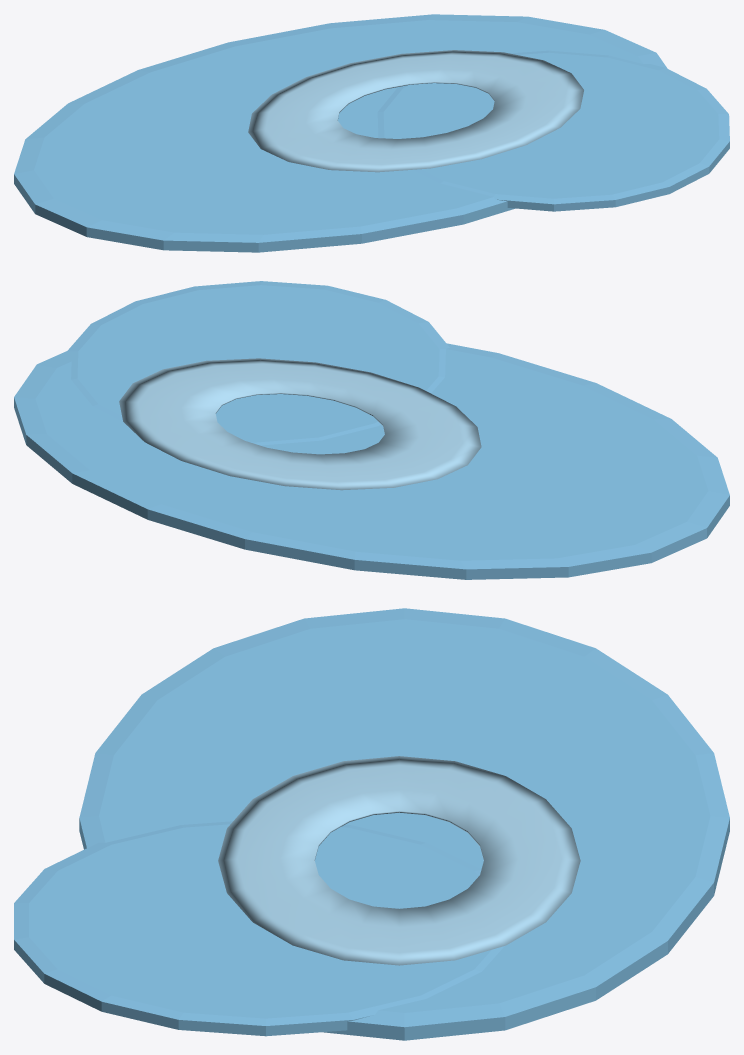
Rendered from rain_puddle.glb.
The picture shows the model from 3 angles, top to bottom: view 1: azimuth 30°, elevation 25°; view 2: azimuth 150°, elevation 25°; view 3: azimuth 270°, elevation 25°; orthographic projection. The views are drawn at different scales.
Visible parts, largest first — view 1: model; view 2: model; view 3: model.
Boxes of the visible parts, x1,y1,x2,y2 form: model: (14,14,729,252); model: (14,281,729,579); model: (14,608,729,1040).
Bounding box in the file's own units: 0.9 × 0.02 × 0.65.
